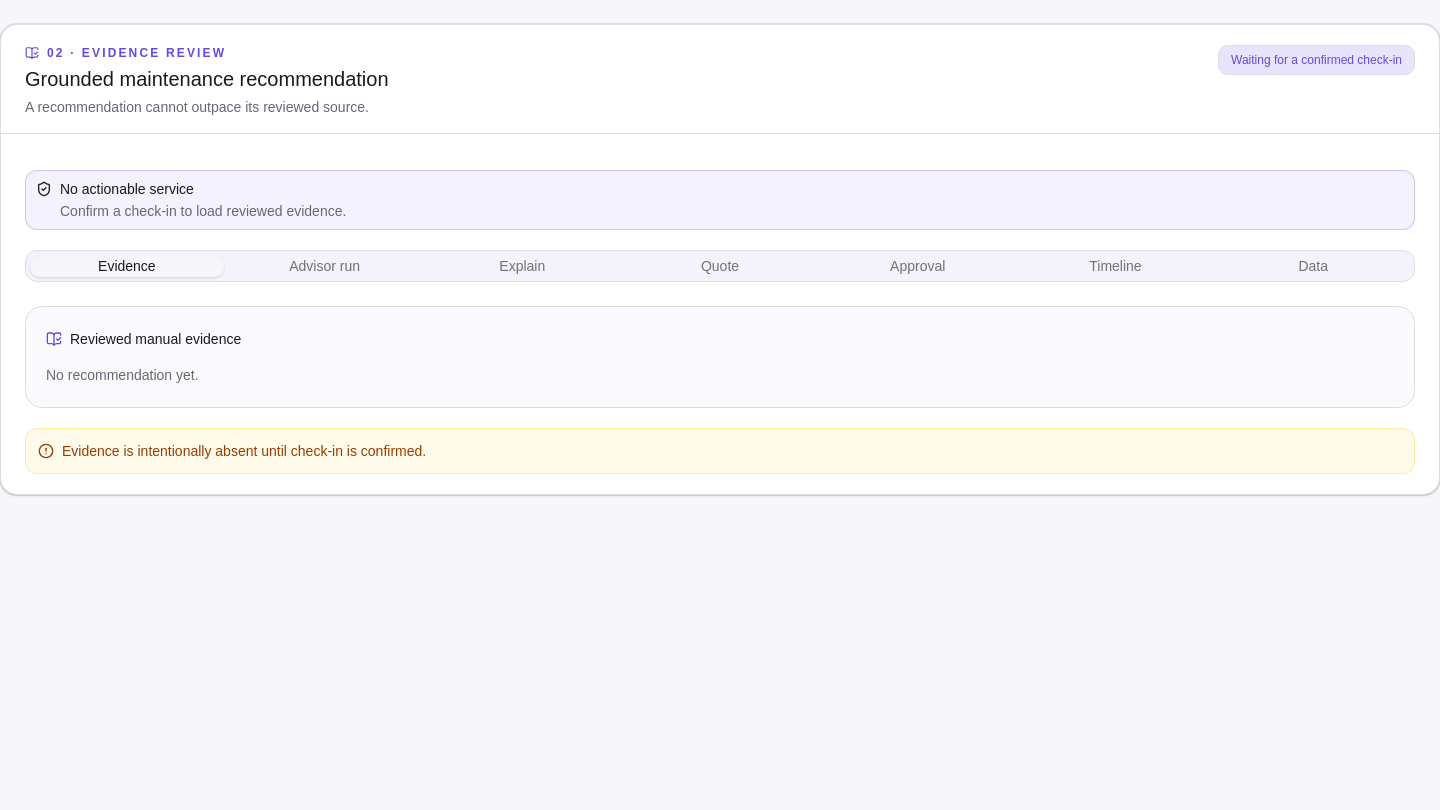
Scenario: keeps the human decision explicit and idempotent
What coordinates should you click on to do the following:
click the tab "Advisor run"
I would click on:
 (325, 266)
Its box is [228,256,421,276].
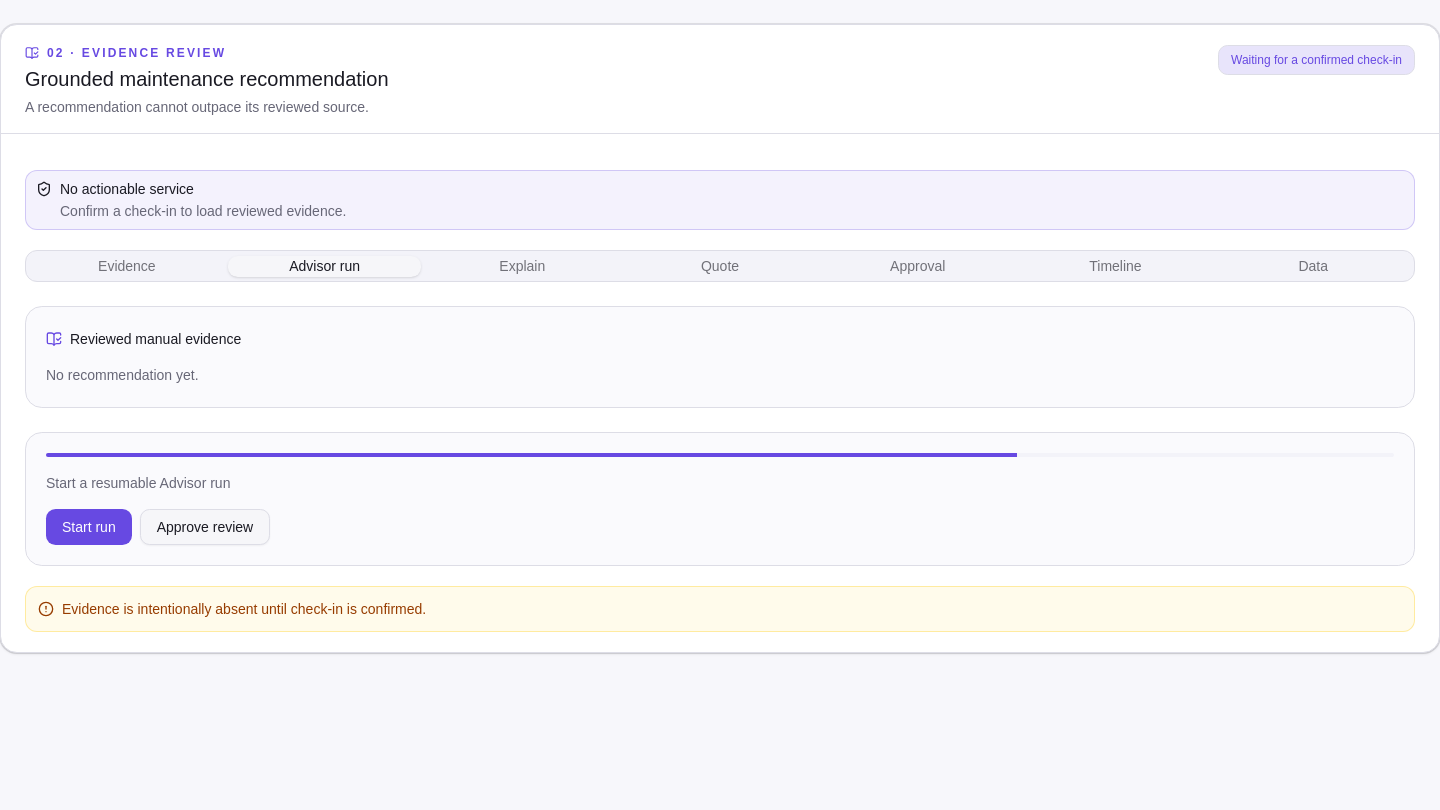
What coordinates should you click on to do the following:
click the button "Approve review"
I would click on:
 (205, 527)
Its box is [140,509,270,545].
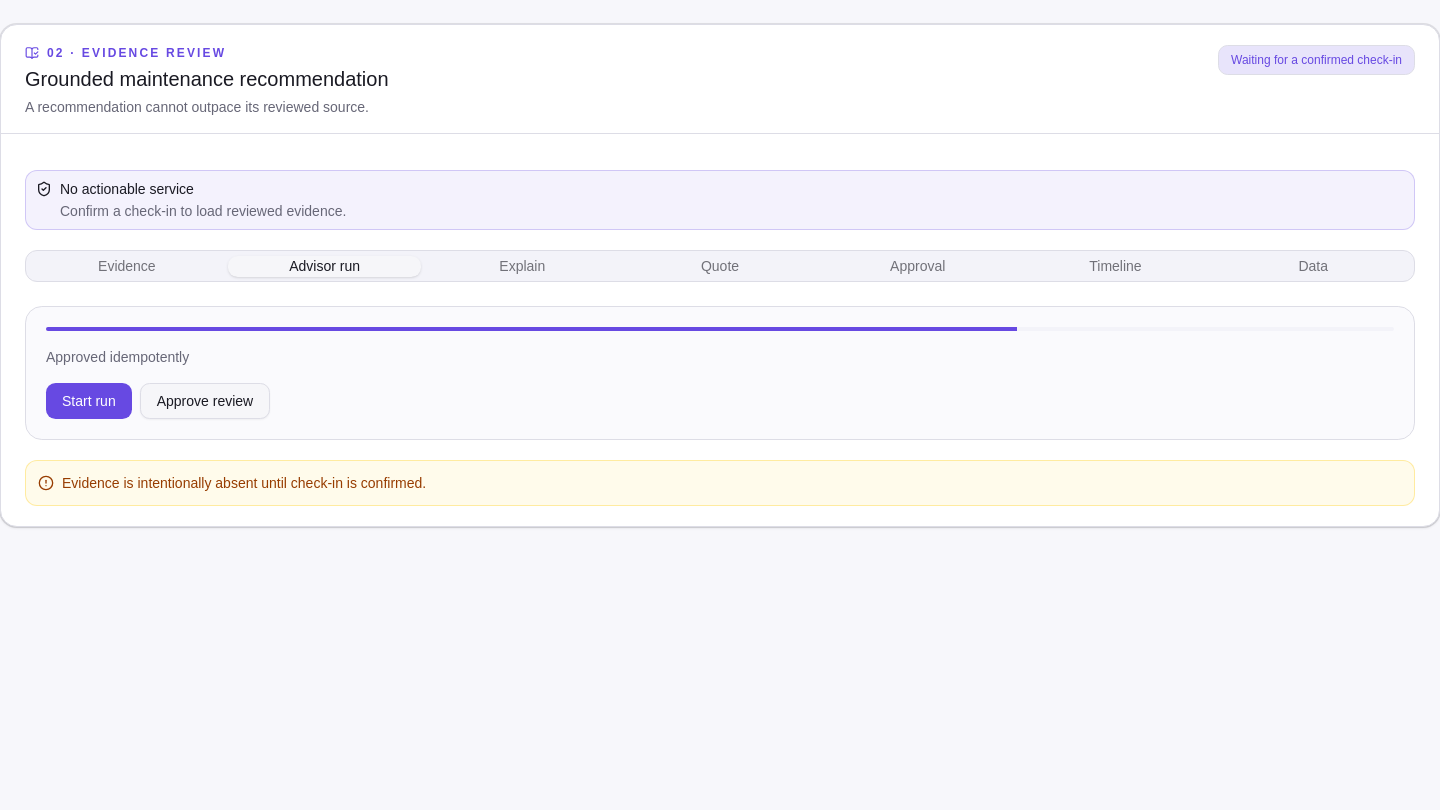
Check: the text "Approved idempotently" is shown, box [46,349,189,365]
